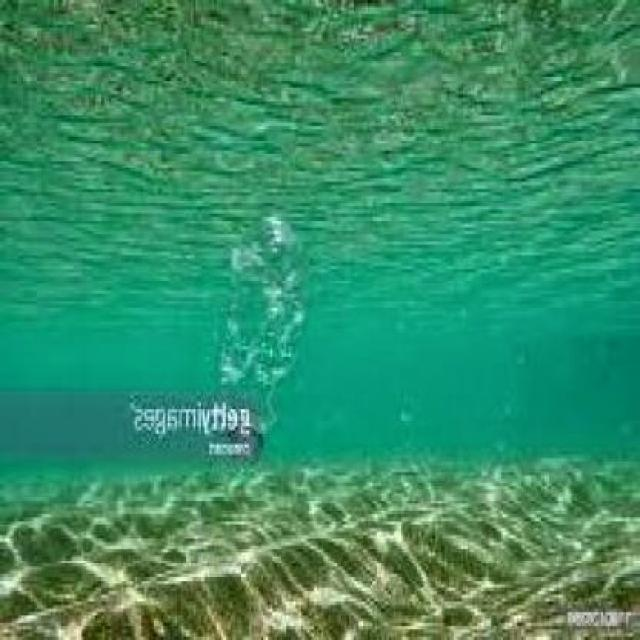pbottle: (198, 197, 325, 466)
